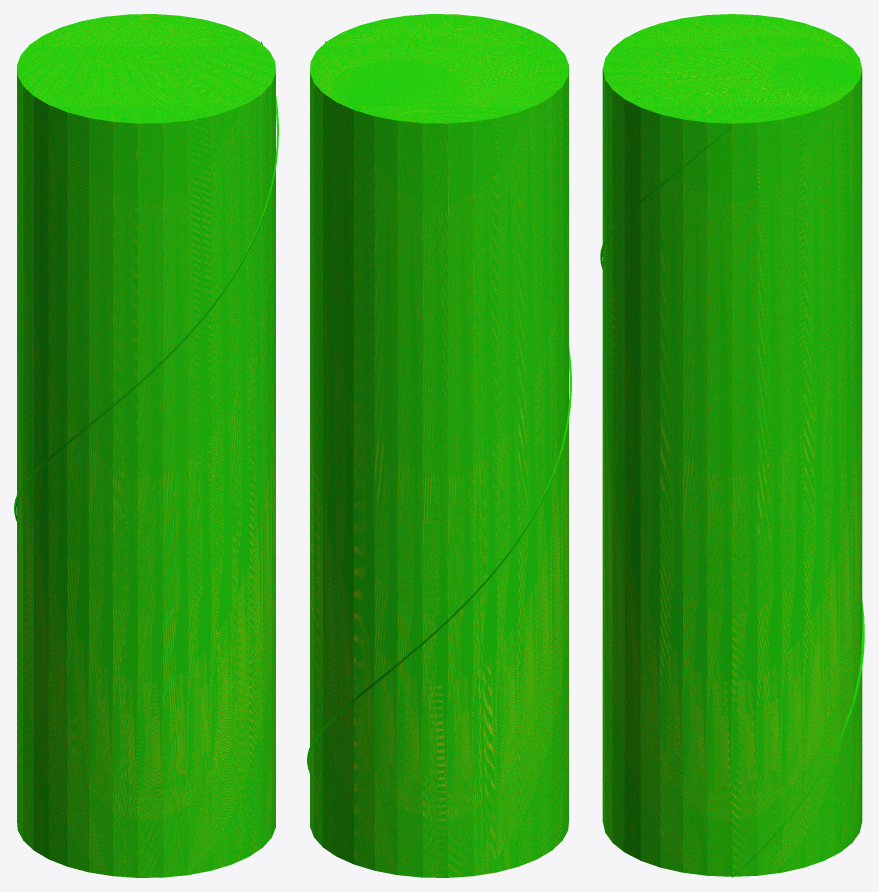
File: cilindro_hilo.fbx
The picture shows the model from 3 angles, left to right: view 1: azimuth 30°, elevation 25°; view 2: azimuth 150°, elevation 25°; view 3: azimuth 270°, elevation 25°; orthographic projection.
Visible parts, largest first — view 1: ec. parametrica; view 2: ec. parametrica; view 3: ec. parametrica.
Boxes of the visible parts, bbox=[...] form: ec. parametrica: bbox=[14, 14, 278, 877]; ec. parametrica: bbox=[307, 14, 571, 877]; ec. parametrica: bbox=[600, 14, 864, 877].
Size of the model in its own units: 200 by 628 by 200.
